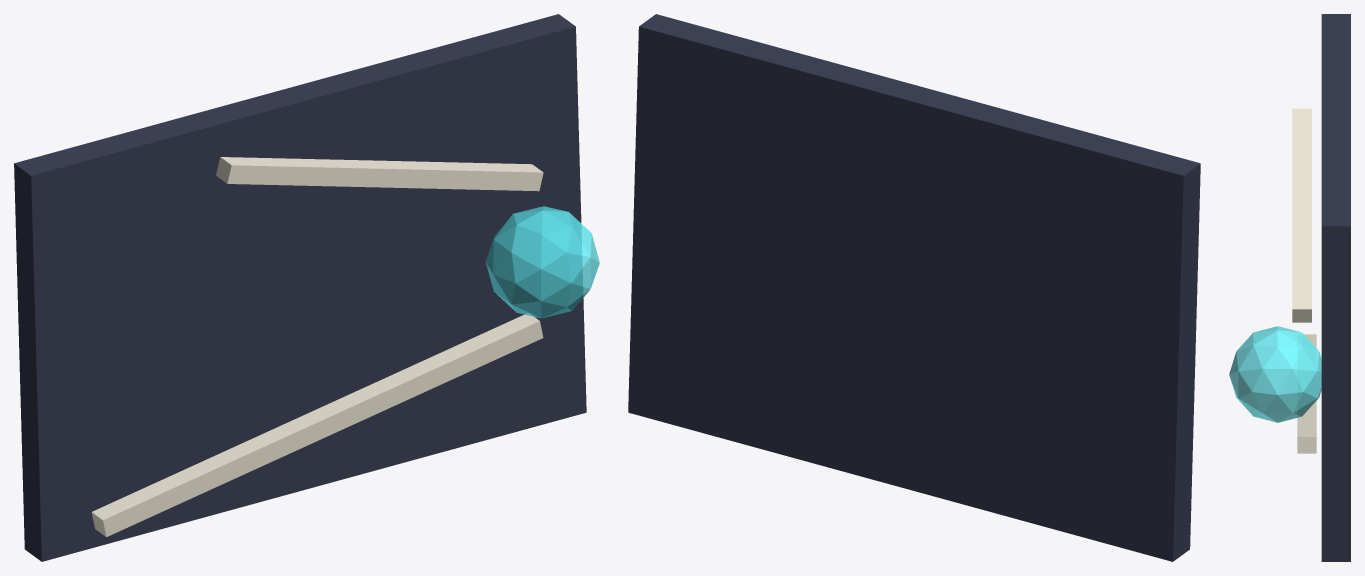
Rendered from 02_world_prop_polish.glb.
3 renders of one model, left to right at view 1: azimuth 30°, elevation 25°; view 2: azimuth 150°, elevation 25°; view 3: azimuth 270°, elevation 25°, orthographic. The views are drawn at different scales.
Parts seen in each view (by area): view 1: object_overlay_plate, edge_wear_a, glow_socket, edge_wear_b; view 2: object_overlay_plate; view 3: object_overlay_plate, glow_socket, edge_wear_b, edge_wear_a.
Part boxes in pixels (x1,y1,x2,y2): object_overlay_plate: (14, 14, 586, 561); edge_wear_a: (91, 313, 543, 536); glow_socket: (485, 206, 599, 318); edge_wear_b: (216, 157, 543, 191); object_overlay_plate: (628, 14, 1200, 561); object_overlay_plate: (1321, 14, 1350, 561); glow_socket: (1229, 326, 1321, 422); edge_wear_b: (1292, 108, 1311, 322); edge_wear_a: (1297, 334, 1316, 453).
Size of the model in its own units: 1.12 by 0.7814 by 0.25.
